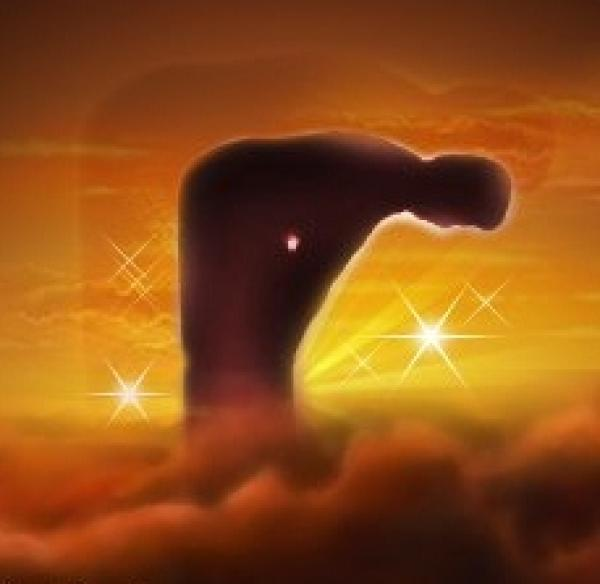ruku: (137, 74, 542, 527)
